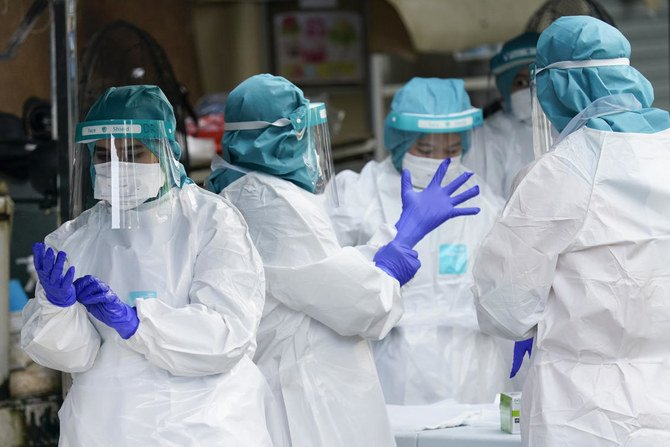Coverall: (22, 82, 271, 447), (479, 11, 670, 447), (319, 75, 520, 447), (203, 73, 398, 446), (483, 42, 553, 129)
Face_Shield: (67, 123, 169, 241), (390, 103, 481, 200), (289, 102, 337, 207)
Gloves: (391, 152, 486, 251), (71, 270, 146, 341), (30, 238, 81, 308), (366, 232, 425, 288)
with_mask: (89, 141, 161, 209), (398, 132, 463, 190)
